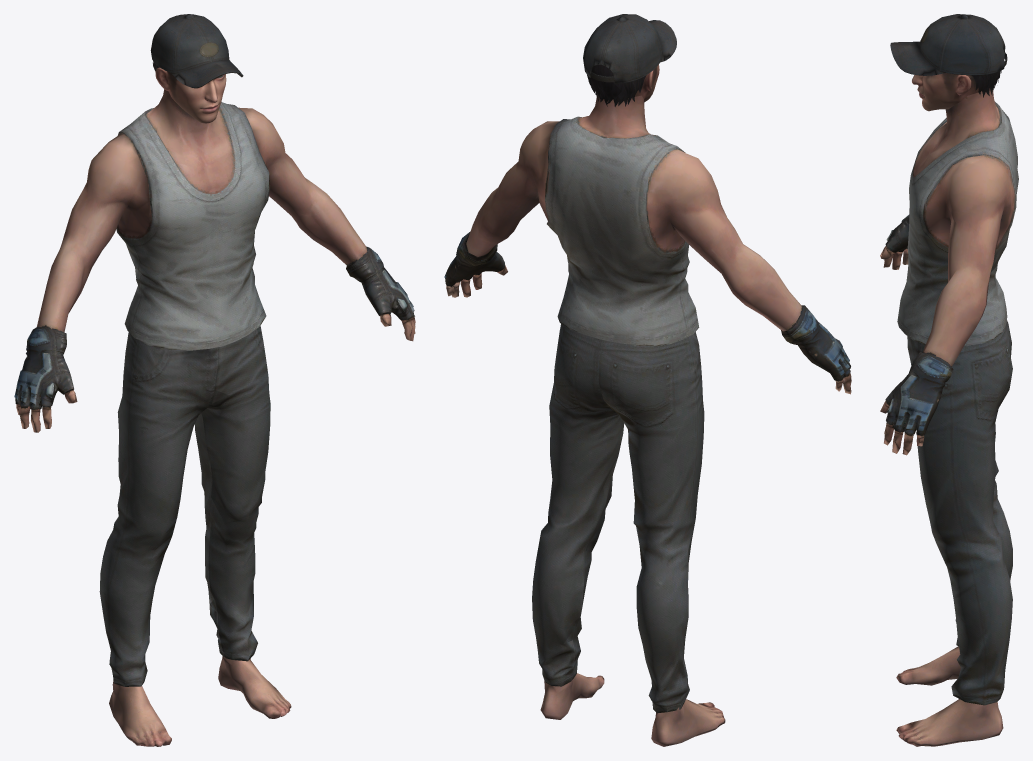
Rendered from BJXS.fbx.
The picture shows the model from 3 angles, left to right: view 1: azimuth 30°, elevation 25°; view 2: azimuth 150°, elevation 25°; view 3: azimuth 270°, elevation 25°; orthographic projection.
Parts seen in each view (by area): view 1: BJXS; view 2: BJXS; view 3: BJXS.
Part boxes in pixels (x1,y1,x2,y2): BJXS: [14, 14, 415, 746]; BJXS: [444, 14, 851, 746]; BJXS: [880, 14, 1018, 746].
Size of the model in its own units: 51.06 by 85.89 by 15.56.
Materials: 6 (6 with a texture image).
